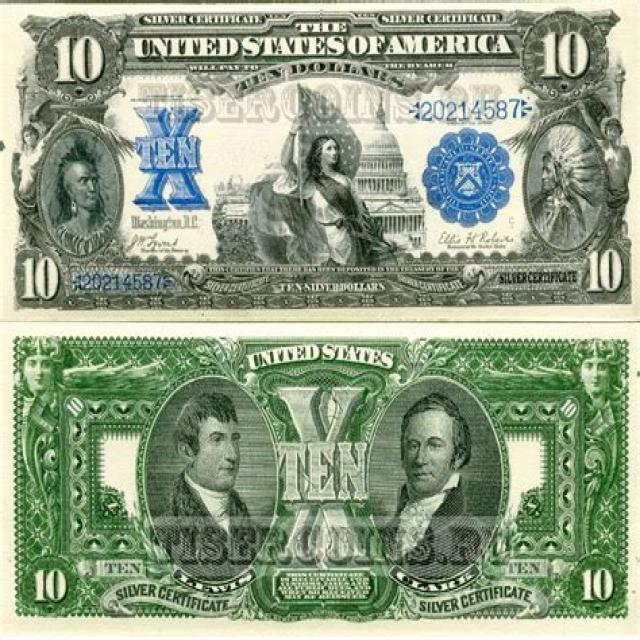banknote: (0, 0, 640, 320), (4, 322, 636, 640), (275, 439, 370, 504), (49, 28, 108, 92), (539, 30, 596, 84), (132, 135, 205, 174), (579, 240, 627, 299), (15, 252, 64, 301), (29, 566, 72, 608), (234, 65, 285, 98), (574, 566, 618, 602), (100, 558, 148, 580), (500, 558, 543, 580)
